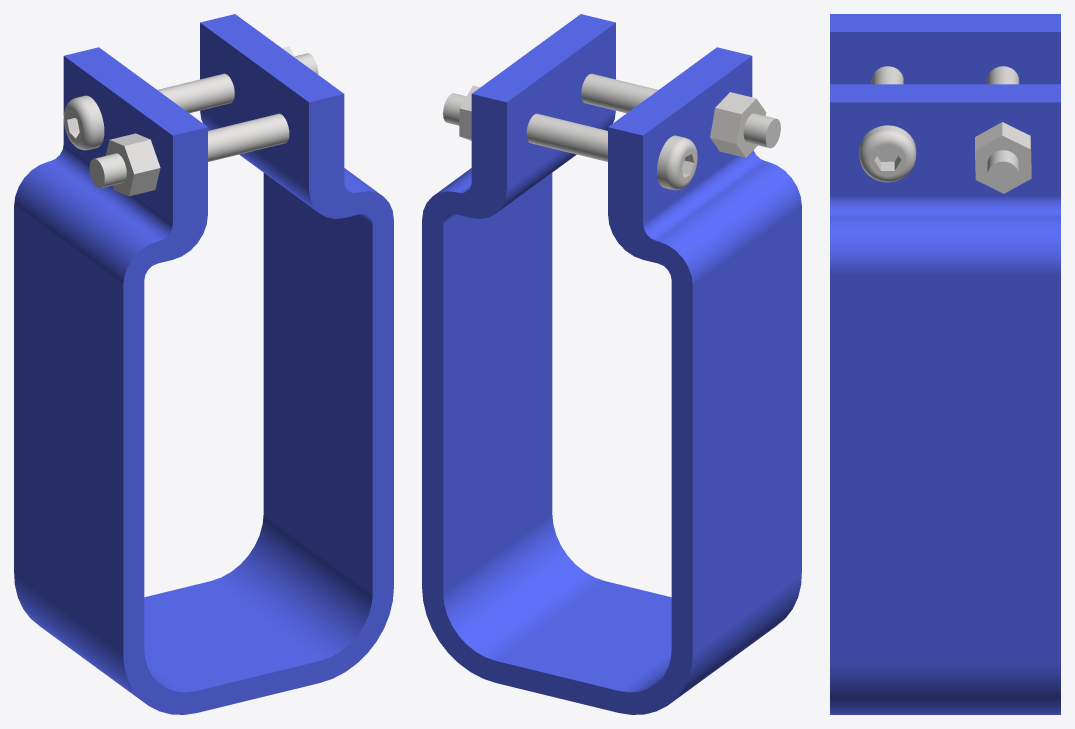
The model's file is acopleSuctionCupGripper.dae.
3 views of the same model, side by side, from view 1: azimuth 30°, elevation 25°; view 2: azimuth 150°, elevation 25°; view 3: azimuth 270°, elevation 25° (orthographic). The views are drawn at different scales.
Visible parts, largest first — view 1: acopleSuctionCupGripperV2; view 2: acopleSuctionCupGripperV2; view 3: acopleSuctionCupGripperV2.
Boxes of the visible parts, x1,y1,x2,y2 form: acopleSuctionCupGripperV2: [14, 14, 393, 714]; acopleSuctionCupGripperV2: [422, 14, 801, 714]; acopleSuctionCupGripperV2: [830, 14, 1060, 714].
Bounding box in the file's own units: 30.8 × 21.5 × 63.4.
